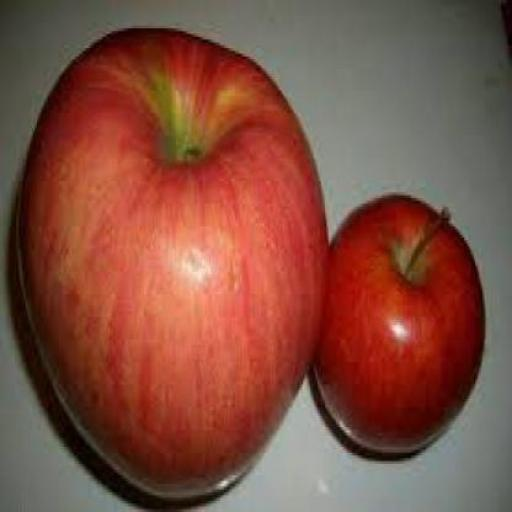biodegradable: (13, 22, 328, 504), (308, 189, 484, 458)
